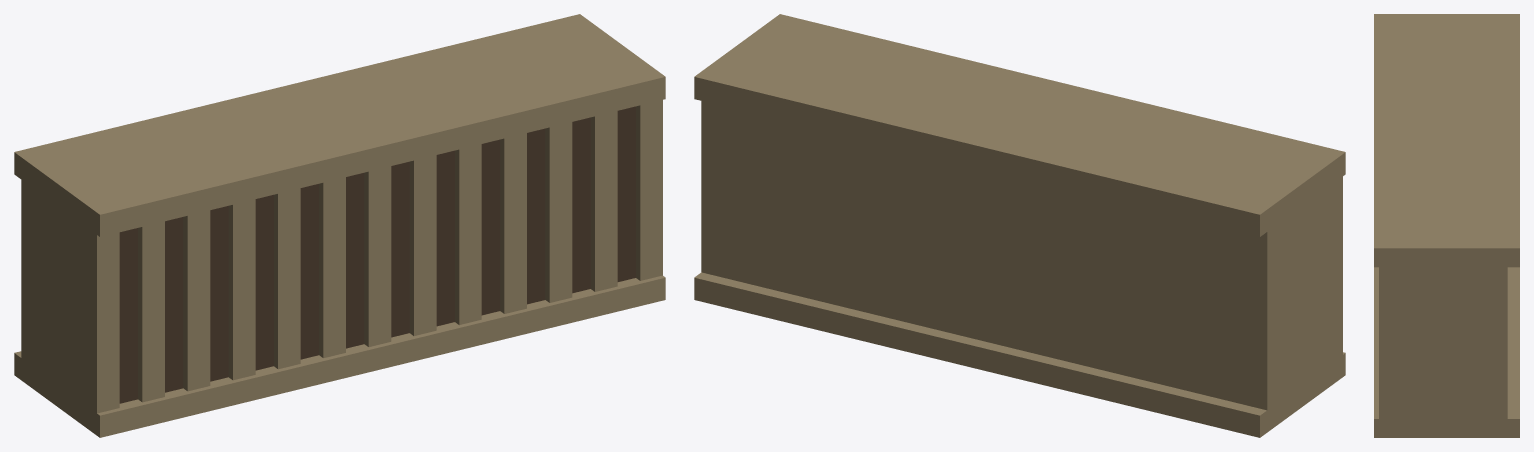
The model's file is OutsideBig.fbx.
3 views of the same model, side by side, from view 1: azimuth 30°, elevation 25°; view 2: azimuth 150°, elevation 25°; view 3: azimuth 270°, elevation 25° (orthographic). The views are drawn at different scales.
Parts seen in each view (by area): view 1: polySurface35, polySurface33, polySurface34; view 2: polySurface35, polySurface33, polySurface34; view 3: polySurface33, polySurface35, polySurface34.
Boxes of the visible parts, left/top/right/bottom form: polySurface35: left=21, top=100, right=662, bottom=413; polySurface33: left=14, top=14, right=665, bottom=236; polySurface34: left=14, top=275, right=665, bottom=437; polySurface35: left=701, top=101, right=1342, bottom=410; polySurface33: left=694, top=14, right=1345, bottom=236; polySurface34: left=694, top=272, right=1345, bottom=437; polySurface33: left=1374, top=14, right=1519, bottom=267; polySurface35: left=1379, top=267, right=1507, bottom=418; polySurface34: left=1374, top=267, right=1519, bottom=437.
Size of the model in its own units: 2.17 by 0.8167 by 0.5692.
